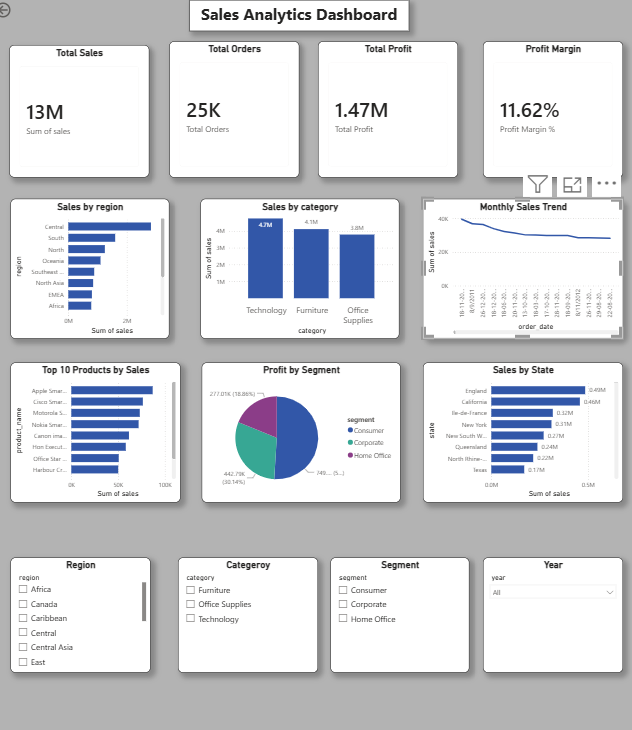

Layout of this report page (visuals, bound fields, positions):
{"tool":"powerbi","page":{"name":"Page 1","canvas":[1295,1500],"ordinal":0},"visuals":[{"type":"clusteredBarChart","title":" Sales by region","fields":{"Category":["SuperStoreOrders.region"],"Y":["Sum(SuperStoreOrders.sales)"]},"box":[35,397.5,317.5,280],"z":0},{"type":"clusteredColumnChart","title":" Sales by category","fields":{"Category":["SuperStoreOrders.category"],"Y":["Sum(SuperStoreOrders.sales)"]},"box":[415,397.5,397.5,280],"z":1000},{"type":"lineChart","title":"Monthly Sales Trend","fields":{"Y":["Sum(SuperStoreOrders.sales)"],"Category":["SuperStoreOrders.order_date"]},"box":[860,397.5,400,280],"z":2000},{"type":"clusteredBarChart","title":"Top 10 Products by Sales","fields":{"Category":["SuperStoreOrders.product_name"],"Y":["Sum(SuperStoreOrders.sales)"]},"box":[35,725,340,280],"z":3000},{"type":"cardVisual","title":"Total Sales","fields":{"Data":["Sum(SuperStoreOrders.sales)"]},"box":[32.5,90,280,265],"z":4000},{"type":"cardVisual","title":"Total Orders","fields":{"Data":["SuperStoreOrders.Total Orders"]},"box":[352.5,82.5,260,272.5],"z":5000},{"type":"cardVisual","title":"Total Profit","fields":{"Data":["SuperStoreOrders.Total Profit"]},"box":[650,82.5,280,272.5],"z":6000},{"type":"pieChart","title":"Profit by Segment","fields":{"Category":["SuperStoreOrders.segment"],"Y":["Sum(SuperStoreOrders.profit)"]},"box":[417.5,725,397.5,280],"z":7000},{"type":"clusteredBarChart","title":" Sales by State","fields":{"Category":["SuperStoreOrders.state"],"Y":["Sum(SuperStoreOrders.sales)"]},"box":[860,725,400,280],"z":8000},{"type":"slicer","title":"Region","fields":{"Values":["SuperStoreOrders.region"]},"box":[35,1115,280,230],"z":9000},{"type":"slicer","title":"Categeroy","fields":{"Values":["SuperStoreOrders.category"]},"box":[370,1115,280,230],"z":10000},{"type":"slicer","title":"Segment","fields":{"Values":["SuperStoreOrders.segment"]},"box":[675,1115,277.5,230],"z":11000},{"type":"slicer","title":"Year","fields":{"Values":["SuperStoreOrders.year"]},"box":[980,1115,280,230],"z":12000},{"type":"textbox","box":[392.5,0,440,62.5],"z":13000},{"type":"cardVisual","title":"Profit Margin","fields":{"Data":["SuperStoreOrders.Profit Margin %"]},"box":[980,82.5,280,272.5],"z":14000},{"type":"actionButton","box":[0,0,100,40],"z":14001}]}

Visuals, with their boxes in screenshot pixels (x1, y1, x2, y2), scaled from the page's 1295x1500 canvas onto the 632x730 screenshot:
" Sales by region" clusteredBarChart: x1=17 y1=193 x2=172 y2=330
" Sales by category" clusteredColumnChart: x1=203 y1=193 x2=397 y2=330
"Monthly Sales Trend" lineChart: x1=420 y1=193 x2=615 y2=330
"Top 10 Products by Sales" clusteredBarChart: x1=17 y1=353 x2=183 y2=489
"Total Sales" cardVisual: x1=16 y1=44 x2=153 y2=173
"Total Orders" cardVisual: x1=172 y1=40 x2=299 y2=173
"Total Profit" cardVisual: x1=317 y1=40 x2=454 y2=173
"Profit by Segment" pieChart: x1=204 y1=353 x2=398 y2=489
" Sales by State" clusteredBarChart: x1=420 y1=353 x2=615 y2=489
"Region" slicer: x1=17 y1=543 x2=154 y2=655
"Categeroy" slicer: x1=181 y1=543 x2=317 y2=655
"Segment" slicer: x1=329 y1=543 x2=465 y2=655
"Year" slicer: x1=478 y1=543 x2=615 y2=655
textbox: x1=192 y1=0 x2=406 y2=30
"Profit Margin" cardVisual: x1=478 y1=40 x2=615 y2=173
actionButton: x1=0 y1=0 x2=49 y2=19
